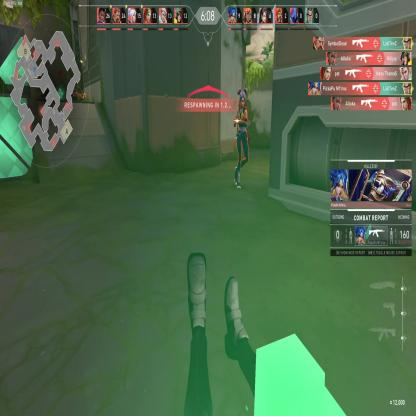enemy: (236, 85, 250, 191)
